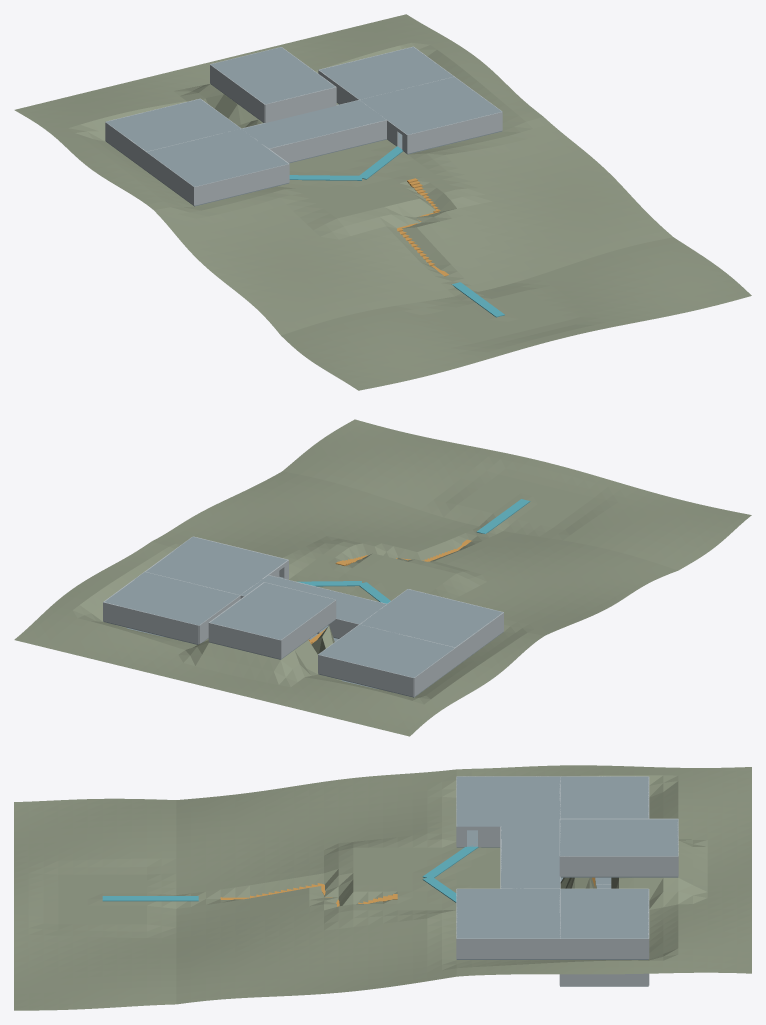
Rendered from rough-shell.glb.
3 views of the same model, one above another, from view 1: azimuth 30°, elevation 25°; view 2: azimuth 150°, elevation 25°; view 3: azimuth 270°, elevation 25° (orthographic). The views are drawn at different scales.
Visible parts, largest first — view 1: Authored battery terrain, Ceiling cap east, Ceiling cap west, Ceiling cap director, Ceiling cap magazine, Ceiling cap service, Wall gallery S, Wall east S, Wall west S, Ceiling cap gallery.002, Wall director S, Wall director W (+8 smaller); view 2: Authored battery terrain, Ceiling cap west, Ceiling cap east, Ceiling cap director, Ceiling cap magazine, Ceiling cap service, Wall service N, Wall magazine N, Wall director N, Wall director W, Ceiling cap magazine.002, Ceiling cap service.002 (+6 smaller); view 3: Authored battery terrain, Ceiling cap west, Ceiling cap east, Ceiling cap director, Ceiling cap service, Wall director E, Ceiling cap magazine, Wall east E, Wall service E, Ceiling cap gallery.002, Ceiling cap service.002, Wall plant E (+8 smaller).
Boxes of the visible parts, <box> form: Authored battery terrain: <box>14,14,751,390</box>; Ceiling cap east: <box>360,77,501,134</box>; Ceiling cap west: <box>147,129,288,186</box>; Ceiling cap director: <box>210,47,334,104</box>; Ceiling cap magazine: <box>106,99,224,139</box>; Ceiling cap service: <box>319,47,437,87</box>; Wall gallery S: <box>269,120,386,162</box>; Wall east S: <box>407,112,502,153</box>; Wall west S: <box>194,164,289,205</box>; Ceiling cap gallery.002: <box>272,107,356,141</box>; Wall director S: <box>265,87,336,122</box>; Wall director W: <box>210,64,264,122</box>; Authored battery terrain: <box>14,419,751,736</box>; Ceiling cap west: <box>360,589,503,647</box>; Ceiling cap east: <box>146,537,287,594</box>; Ceiling cap director: <box>210,582,335,639</box>; Ceiling cap magazine: <box>319,637,437,677</box>; Ceiling cap service: <box>104,584,222,625</box>; Wall service N: <box>103,602,198,644</box>; Wall magazine N: <box>318,654,413,696</box>; Wall director N: <box>209,622,280,658</box>; Wall director W: <box>280,600,336,658</box>; Ceiling cap magazine.002: <box>349,624,454,655</box>; Ceiling cap service.002: <box>134,572,239,602</box>; Authored battery terrain: <box>14,765,751,1010</box>; Ceiling cap west: <box>456,776,559,826</box>; Ceiling cap east: <box>456,889,559,938</box>; Ceiling cap director: <box>560,819,678,856</box>; Ceiling cap service: <box>596,889,648,938</box>; Wall director E: <box>560,856,678,876</box>; Ceiling cap magazine: <box>596,776,648,818</box>; Wall east E: <box>456,938,559,958</box>; Wall service E: <box>560,938,648,958</box>; Ceiling cap gallery.002: <box>501,842,559,872</box>; Ceiling cap service.002: <box>560,889,582,938</box>; Wall plant E: <box>560,973,648,985</box>.
Size of the model in its own units: 67.8 by 10.7 by 100.
